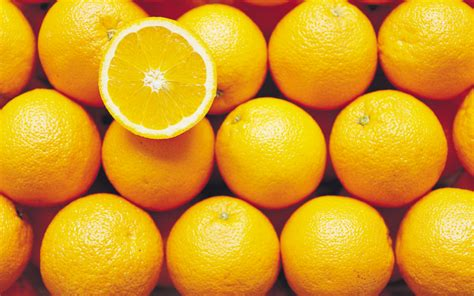orange: (333, 87, 451, 207), (39, 190, 166, 296), (217, 97, 329, 209), (1, 84, 102, 207), (268, 1, 380, 109), (165, 191, 277, 296), (284, 191, 396, 296), (37, 1, 144, 108), (98, 118, 216, 209), (375, 1, 474, 97), (190, 6, 270, 114), (394, 187, 474, 294)
